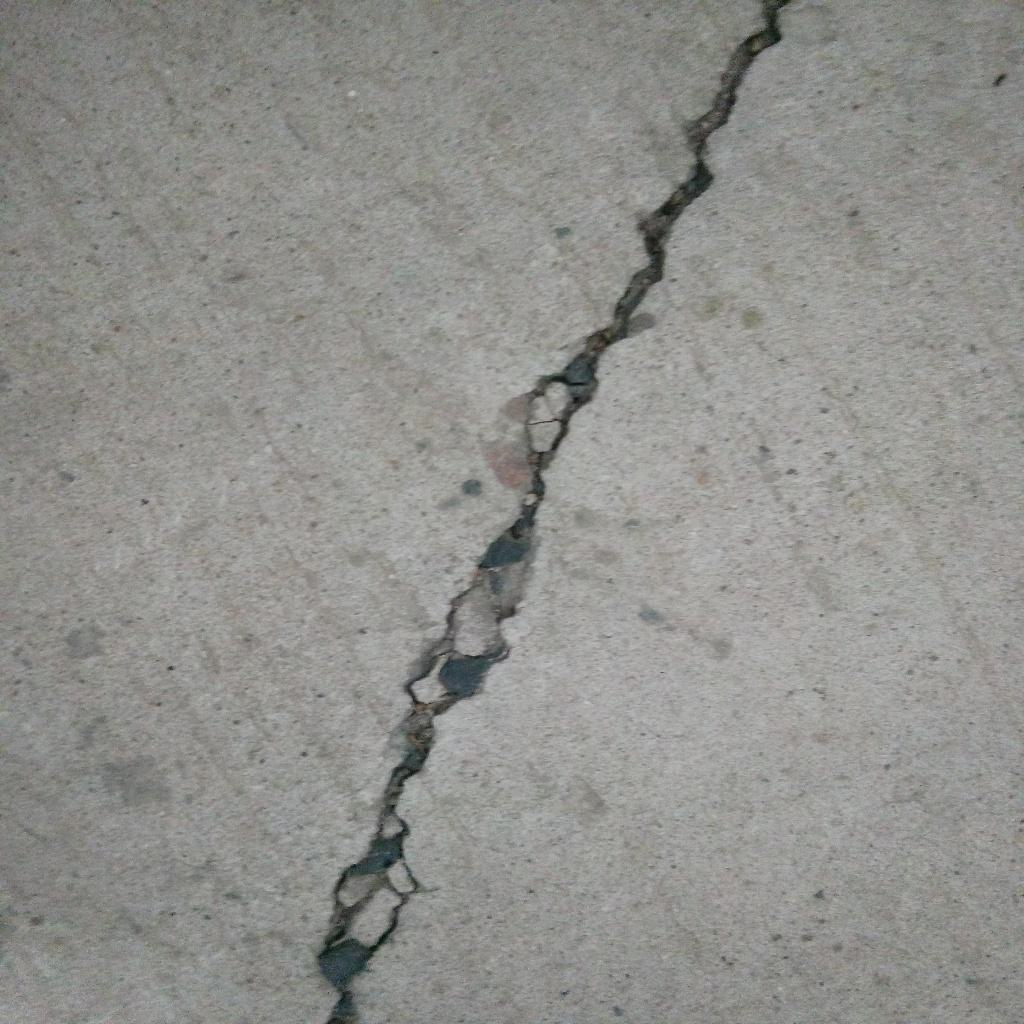Crack: (313, 1, 789, 1024)
